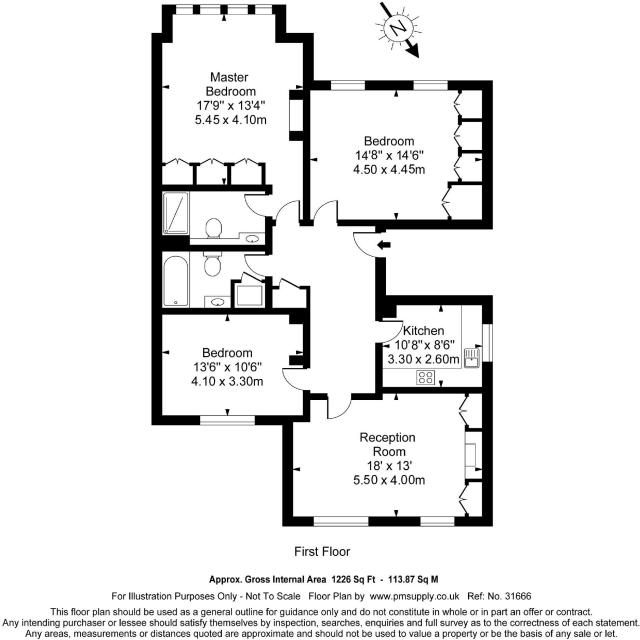DOOR: (351, 230, 386, 259), (274, 199, 302, 227), (312, 199, 339, 226), (243, 193, 272, 218), (326, 393, 352, 420), (282, 367, 311, 391), (375, 320, 404, 344), (244, 253, 273, 277)
ROOM: (152, 4, 315, 228), (282, 387, 493, 527), (302, 80, 493, 231), (151, 308, 311, 425), (375, 295, 494, 394)
WINDOW: (313, 516, 370, 527), (199, 415, 256, 426), (481, 323, 494, 363), (412, 79, 449, 91), (329, 80, 366, 91), (420, 516, 455, 527), (199, 4, 221, 15), (227, 4, 249, 15), (175, 4, 193, 15), (254, 5, 273, 15)
